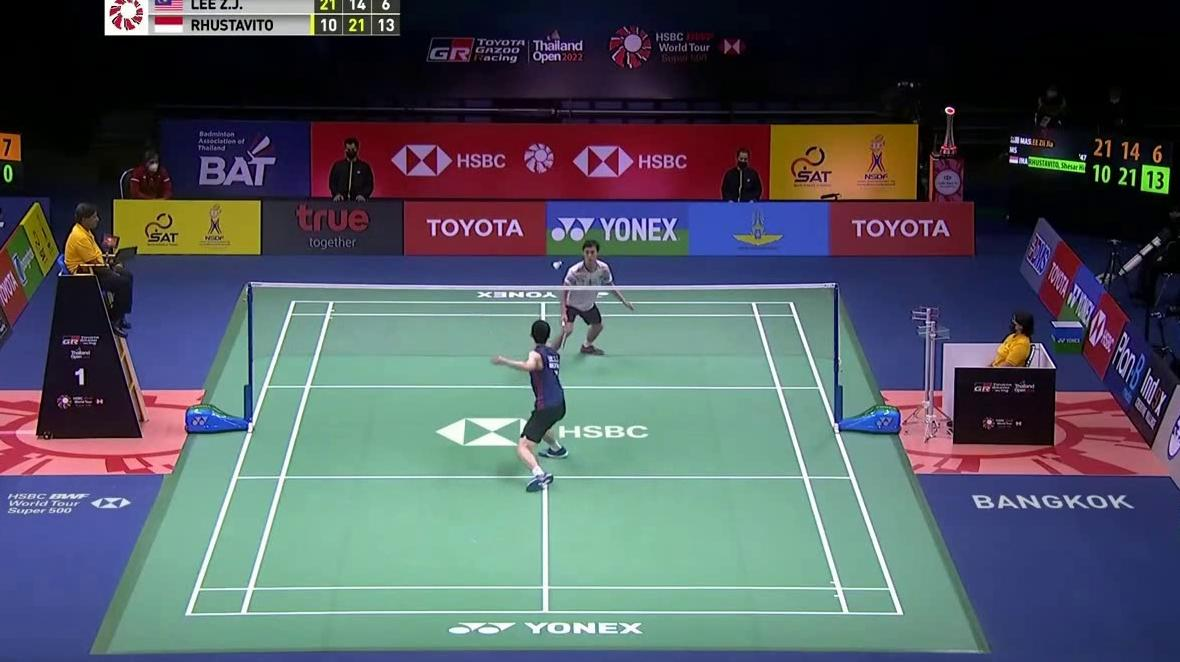racket: (560, 319, 570, 351)
shuttle: (551, 259, 564, 272)
